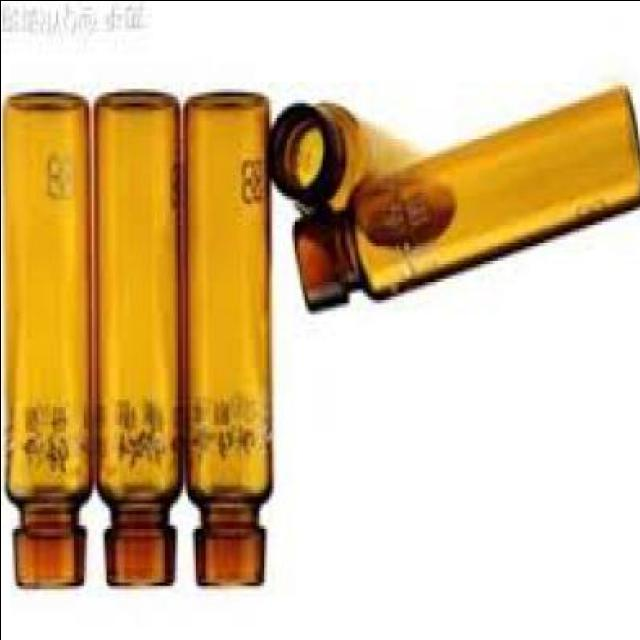kaca: (294, 88, 640, 314), (3, 96, 96, 588), (95, 96, 184, 588), (187, 99, 273, 588), (272, 106, 412, 224)
